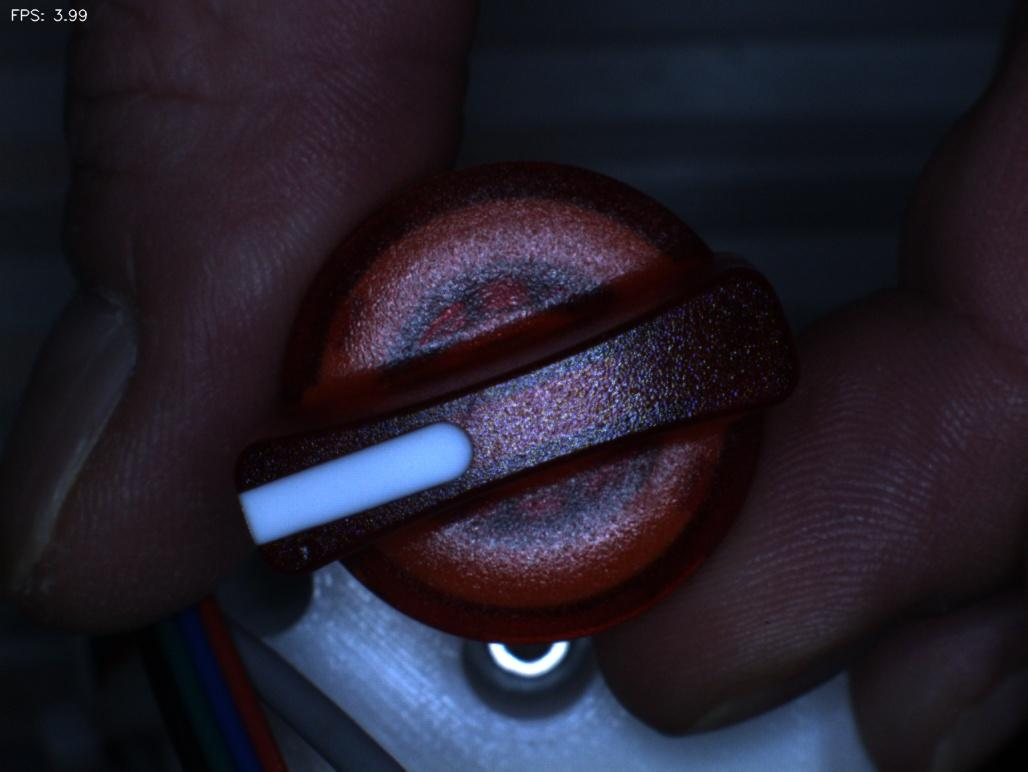Choc: (267, 512, 369, 602)
